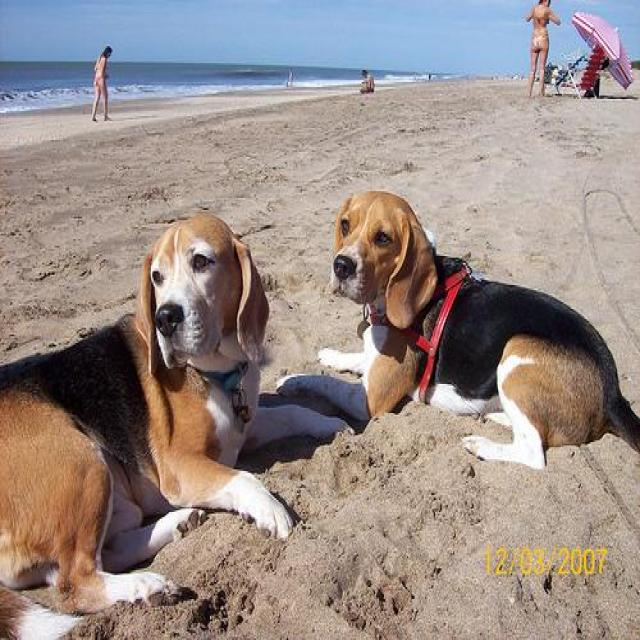beagle: (0, 215, 291, 611), (279, 188, 639, 468)
